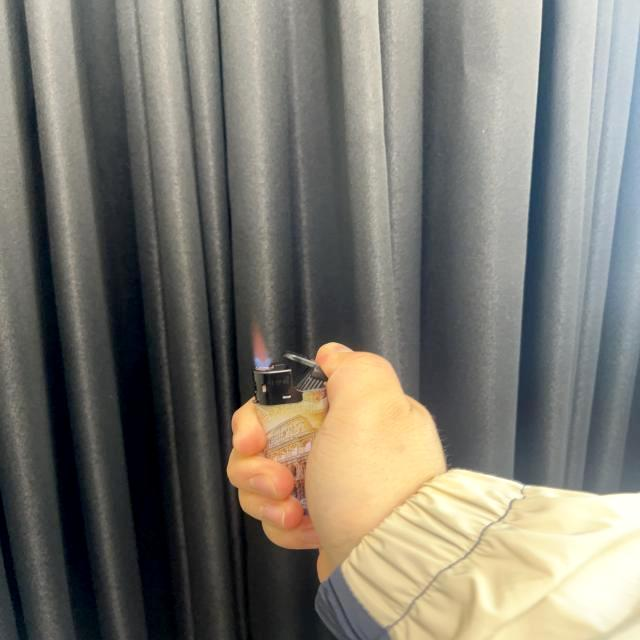fire: (250, 322, 274, 368)
